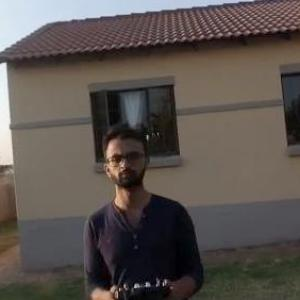follow: (76, 119, 208, 299)
